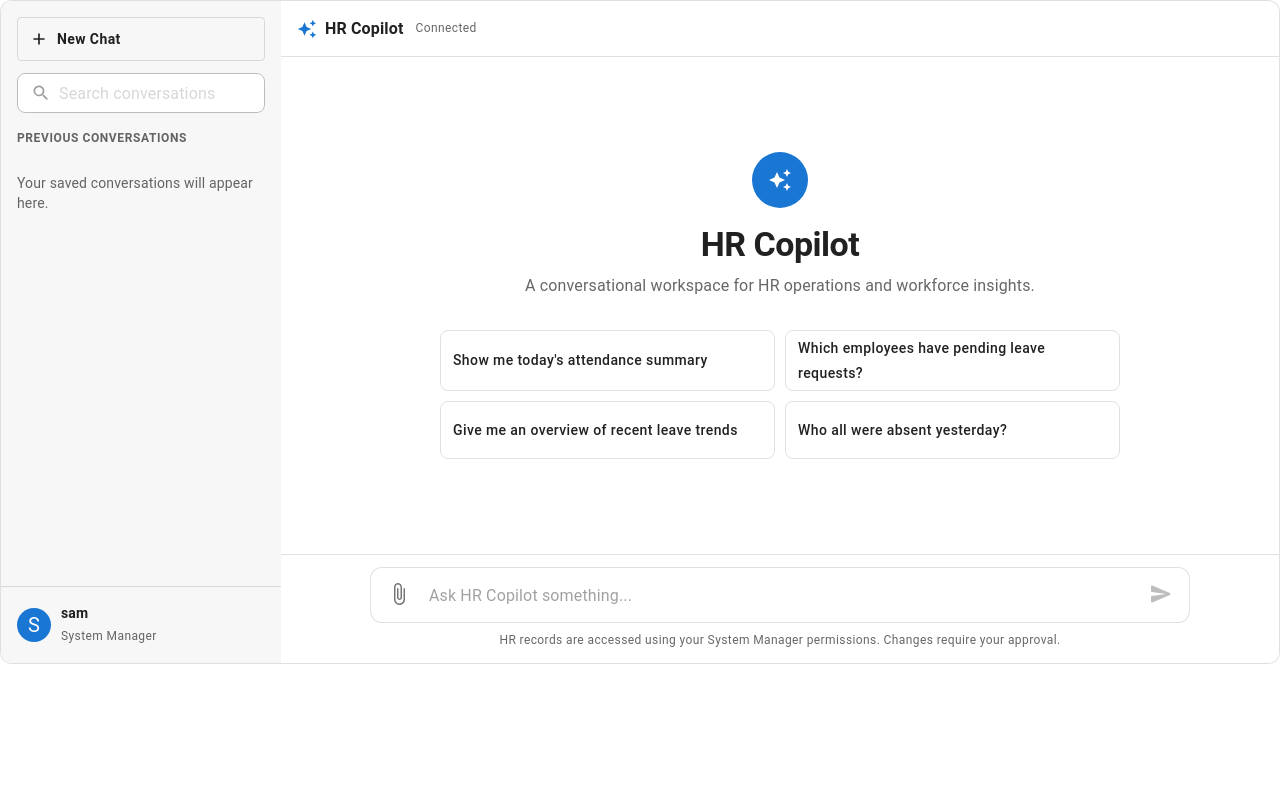
it: system managers send scoped HR questions and see the response
Step 1. Type "Which leave requests are pending?" into the text box with placeholder "Ask HR Copilot something..." → (780, 596), box [429,584,1131,607]
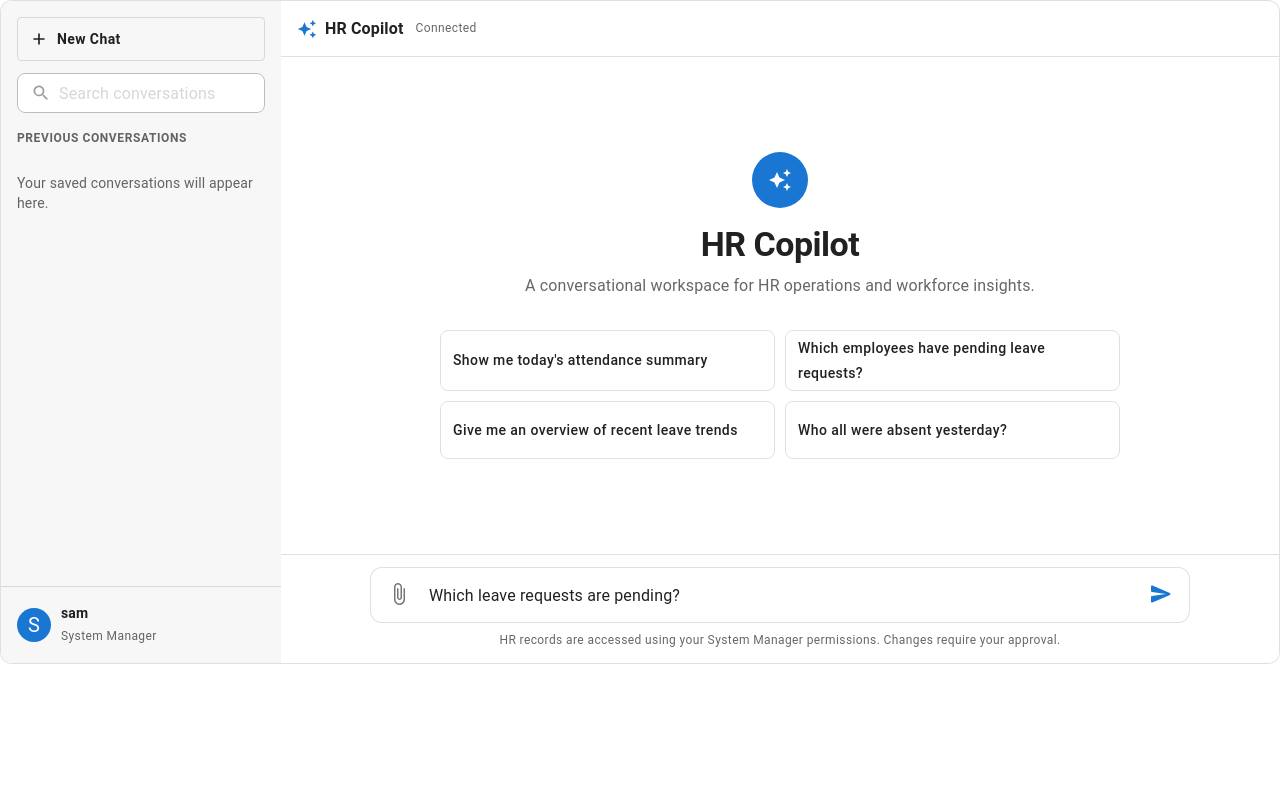
Step 2. Click the button named "Send message" → (1161, 594), box [1141,574,1181,614]
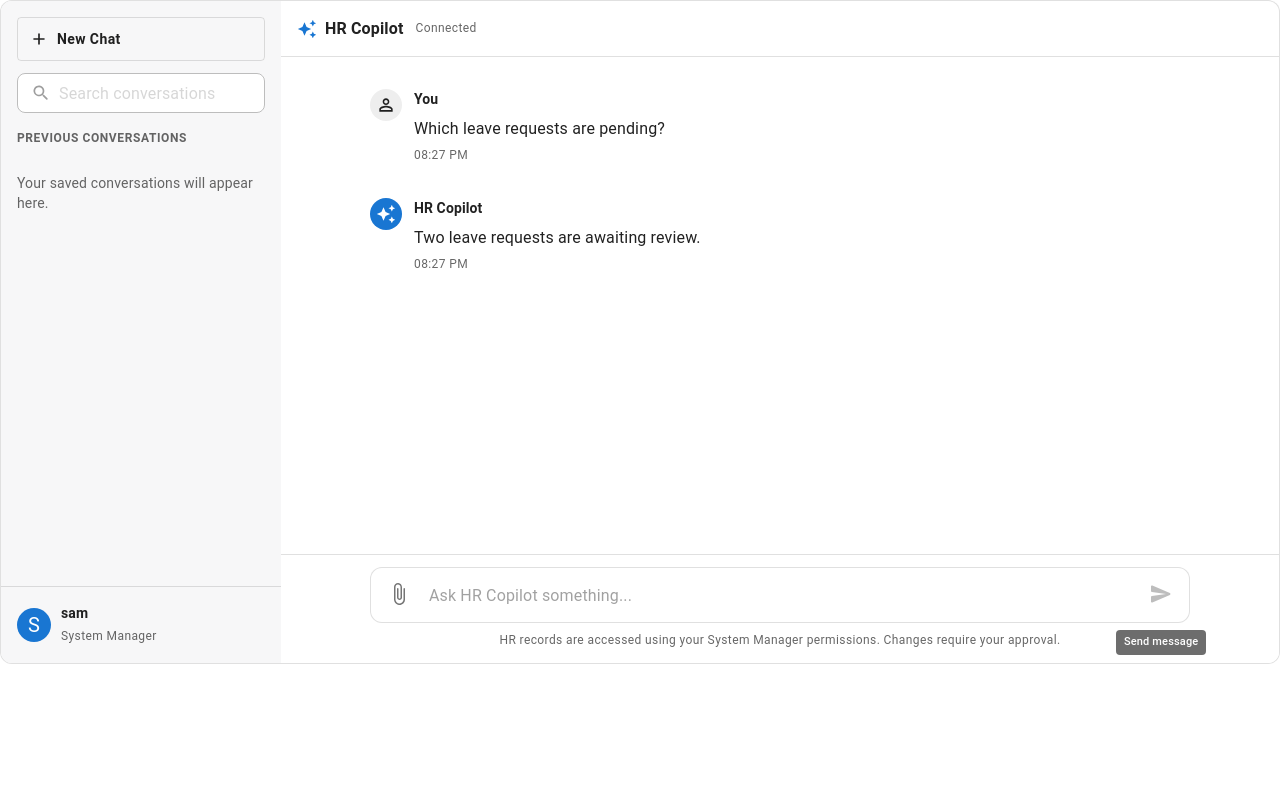
Result: the text "Two leave requests are awaiting review." is shown at [414,228,701,247]
